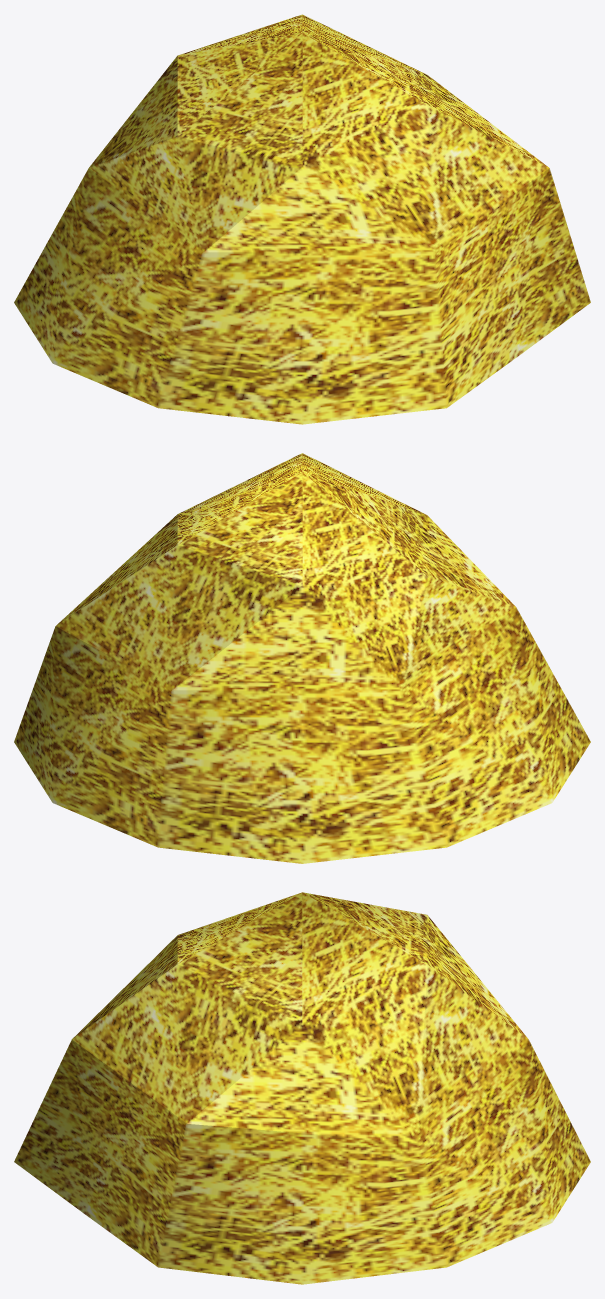
The model's file is Environment - Prop - Crop Pile - PMHAYPILE.glb.
The picture shows the model from 3 angles, top to bottom: view 1: azimuth 30°, elevation 25°; view 2: azimuth 150°, elevation 25°; view 3: azimuth 270°, elevation 25°; orthographic projection.
Parts seen in each view (by area): view 1: PMHAYPILE; view 2: PMHAYPILE; view 3: PMHAYPILE.
Boxes of the visible parts, x1,y1,x2,y2 form: PMHAYPILE: (14,14,590,424); PMHAYPILE: (14,453,590,863); PMHAYPILE: (14,892,590,1284).
Bounding box in the file's own units: 20.42 × 10.56 × 20.42.
1 material, 1 textured.
